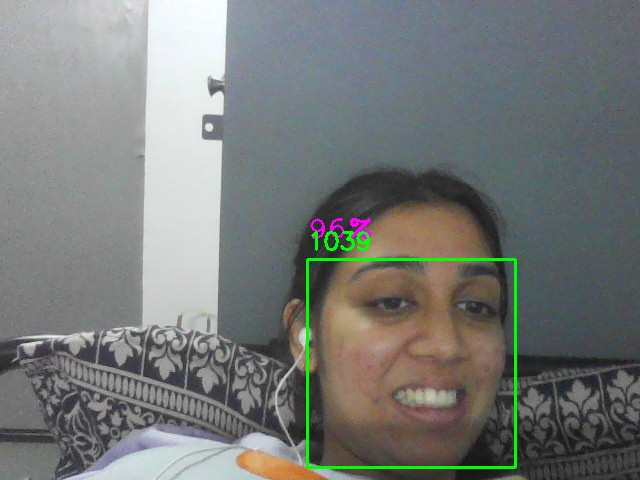real: (307, 259, 516, 468)
